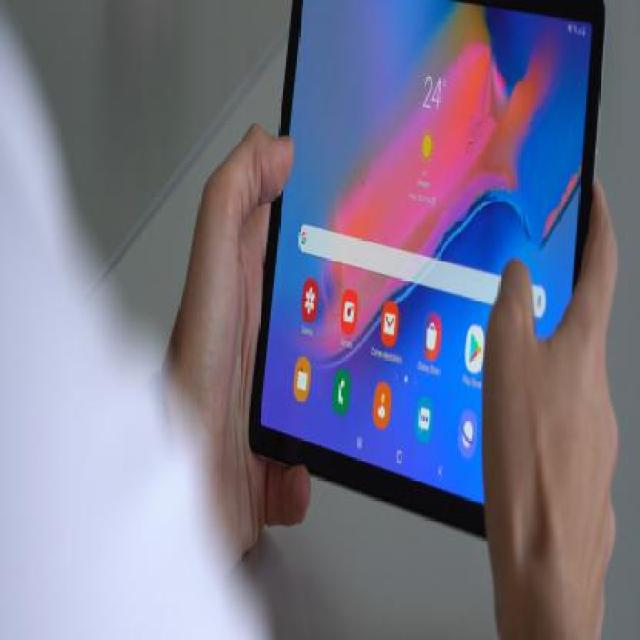tablet: (280, 0, 615, 545)
